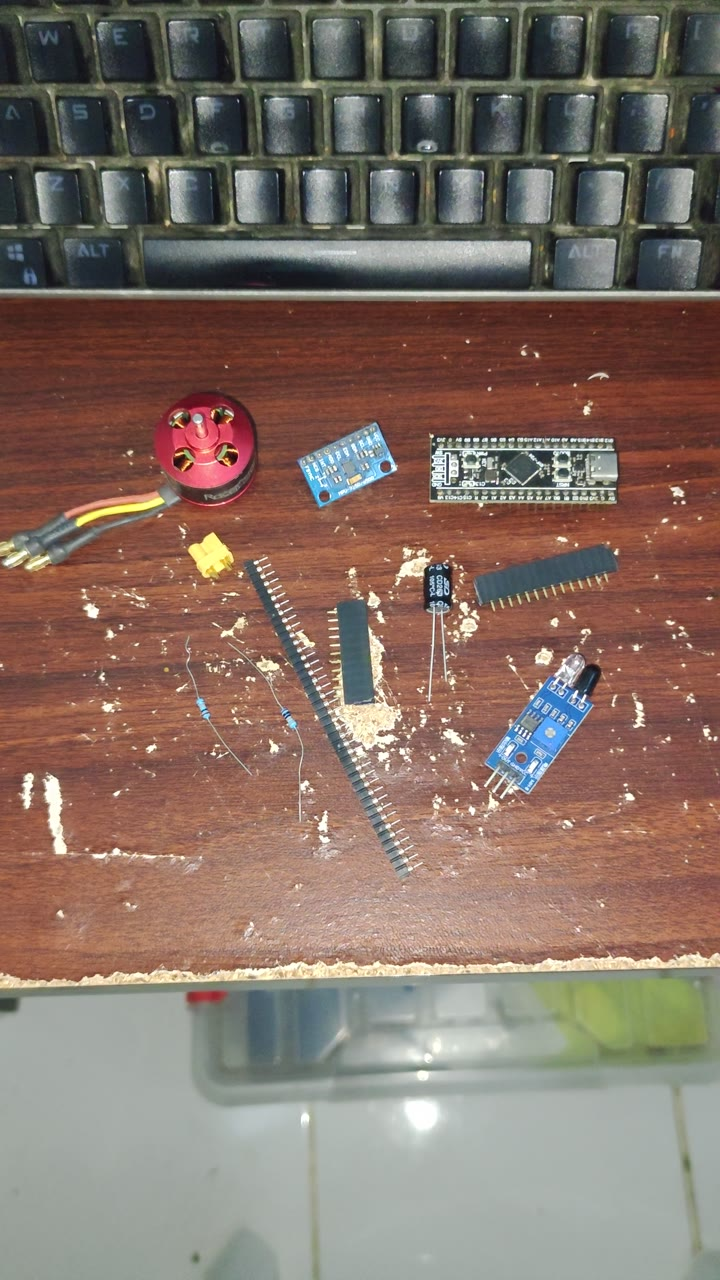bldc_motor: (55, 401, 263, 537)
elco_capacitor: (430, 568, 449, 633)
ir_sensor: (494, 649, 604, 803)
mpu6500: (295, 422, 402, 509)
pin_header: (255, 578, 464, 906), (489, 543, 620, 610), (341, 621, 380, 708)
resistor: (261, 669, 353, 822), (183, 668, 273, 792)
stm32f4: (428, 437, 626, 507)
xt30_female: (188, 530, 268, 588)
